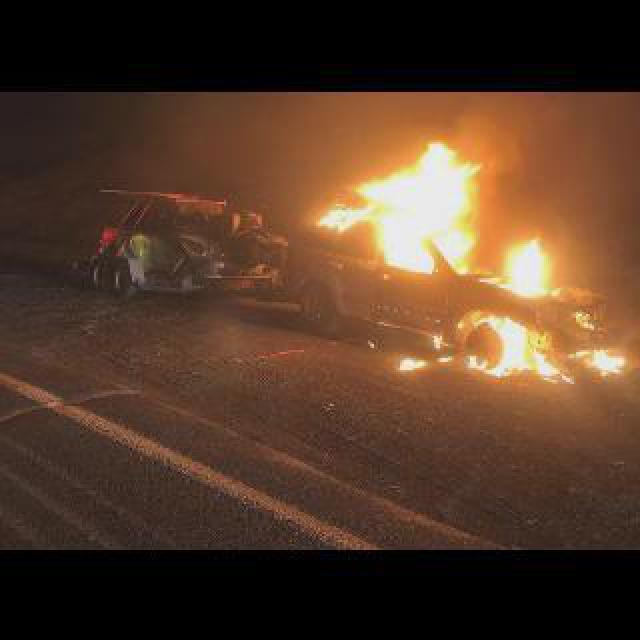zfire: (300, 138, 470, 274), (460, 318, 574, 384), (482, 242, 560, 296), (590, 344, 624, 376), (398, 356, 428, 370), (428, 328, 444, 348)
